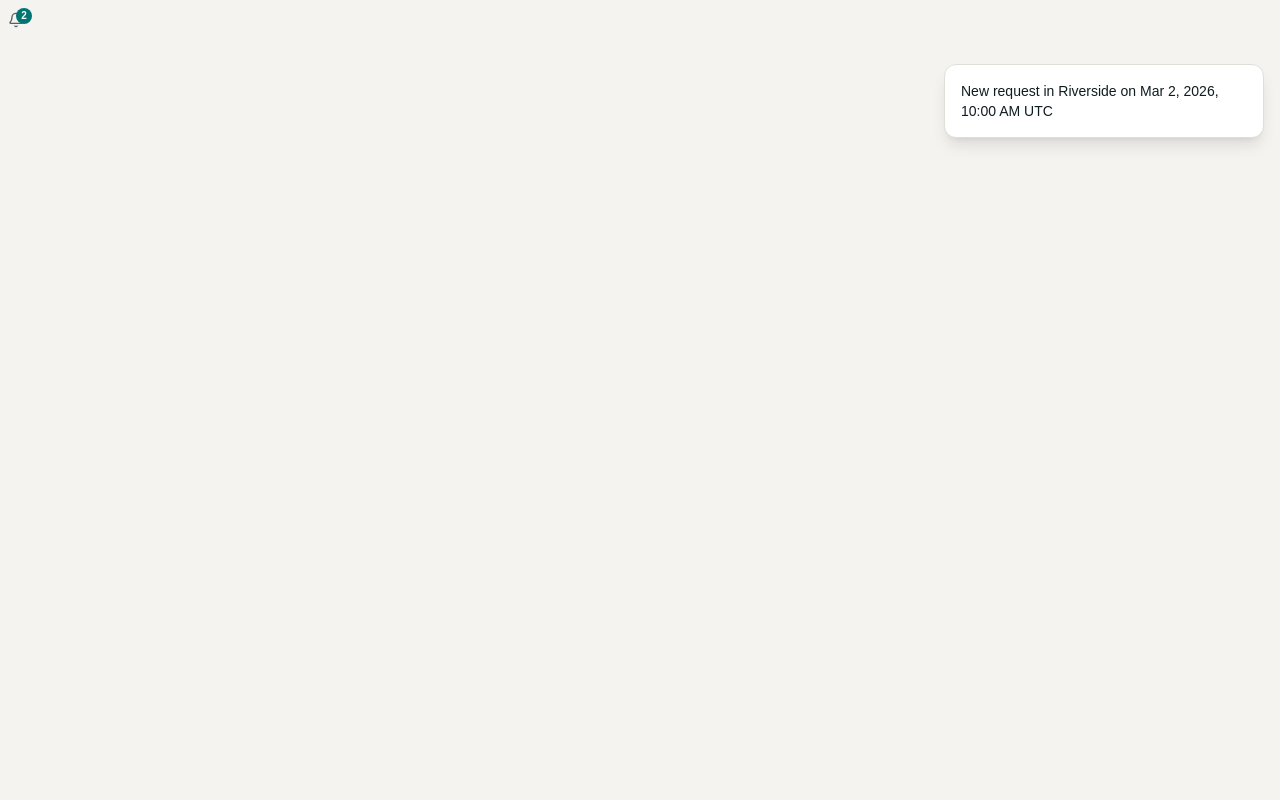
Test: the live Notification stream › adds a created Notification to the badge and list and announces it in a toast
Later steps or results of the test are not shown.
Check: the message shows "New request in Riverside on", box [961,83,1219,119]
Click the button named "Notifications" at (20, 18), box [0,0,40,36]
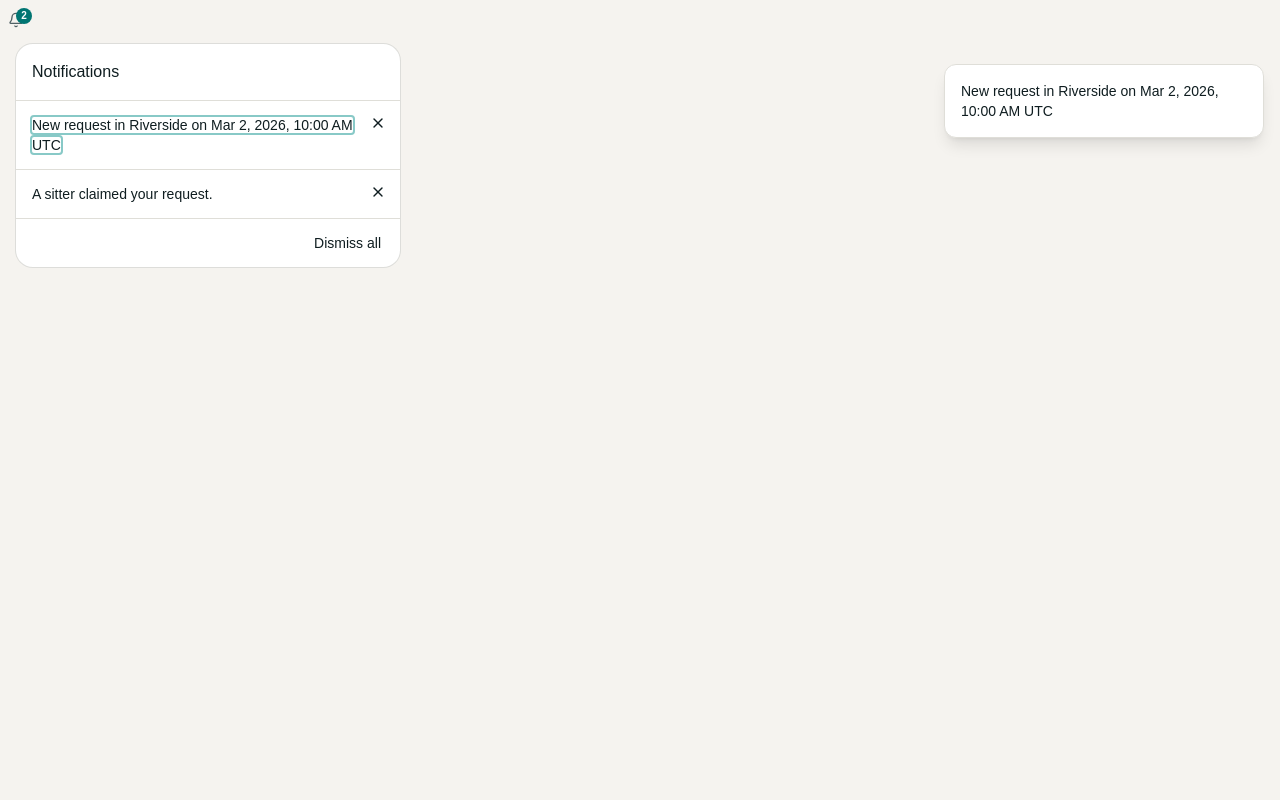
Check: the list item "New request in Riverside on Mar 2, 2026, 10:00 AM UTC" is shown, box [16,101,400,170]
